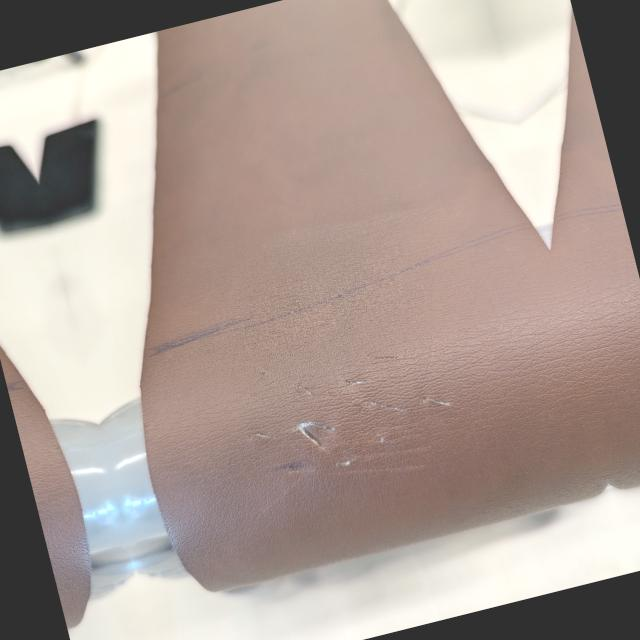belt_crack: (211, 297, 485, 512)
